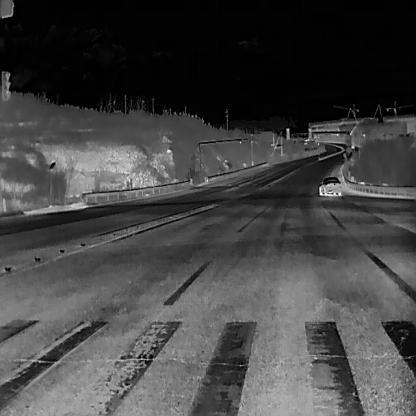car: (318, 175, 341, 195), (350, 141, 354, 149), (313, 138, 318, 143)
